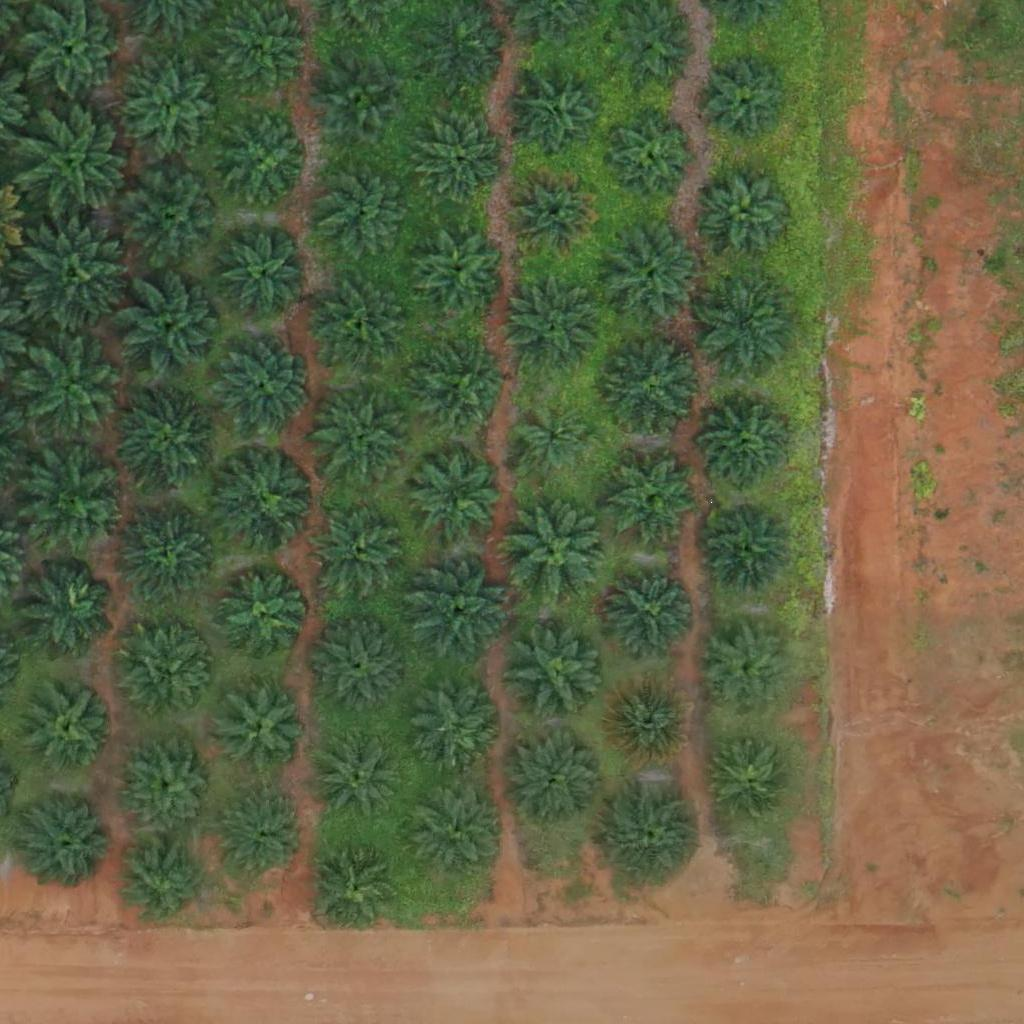Kelapa_Sawit: (16, 336, 129, 449), (22, 105, 134, 218), (15, 218, 127, 331), (22, 1, 122, 102), (509, 503, 609, 604), (409, 223, 509, 324), (410, 339, 510, 440), (408, 563, 508, 664), (315, 159, 415, 260), (312, 276, 412, 377), (311, 385, 411, 486), (310, 502, 410, 603), (308, 618, 408, 719), (211, 336, 311, 437), (216, 449, 316, 550), (121, 167, 221, 268), (119, 276, 219, 377), (117, 392, 217, 493), (119, 502, 219, 603), (27, 446, 127, 547), (405, 776, 505, 877), (507, 624, 607, 725), (505, 728, 605, 829), (604, 782, 704, 883), (694, 273, 794, 373), (599, 225, 699, 325), (601, 339, 701, 439), (504, 277, 604, 377), (16, 558, 116, 658), (19, 790, 119, 890), (121, 736, 221, 836), (318, 59, 406, 147), (703, 58, 791, 146), (704, 168, 792, 256), (611, 455, 699, 543), (605, 565, 693, 653), (418, 115, 506, 203), (218, 573, 306, 661), (218, 686, 306, 774), (220, 792, 308, 880), (316, 732, 404, 820), (313, 842, 401, 930), (605, 676, 693, 764), (710, 739, 798, 827), (127, 65, 214, 153), (514, 72, 601, 160), (704, 405, 791, 493), (705, 502, 792, 590), (704, 628, 791, 716), (606, 111, 693, 199), (510, 169, 597, 257), (413, 451, 500, 539), (218, 118, 305, 206), (221, 233, 308, 321), (124, 632, 211, 720), (27, 682, 114, 770), (121, 839, 208, 927), (420, 679, 507, 767), (516, 405, 591, 481)
